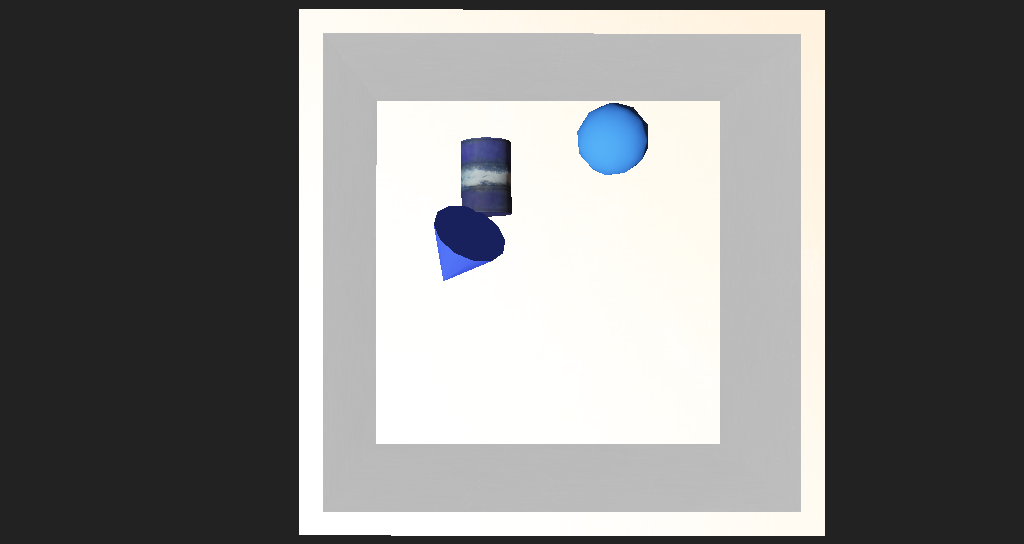cone: (428, 186, 475, 234)
cylinder: (364, 220, 472, 296)
sphere: (525, 162, 593, 210)
